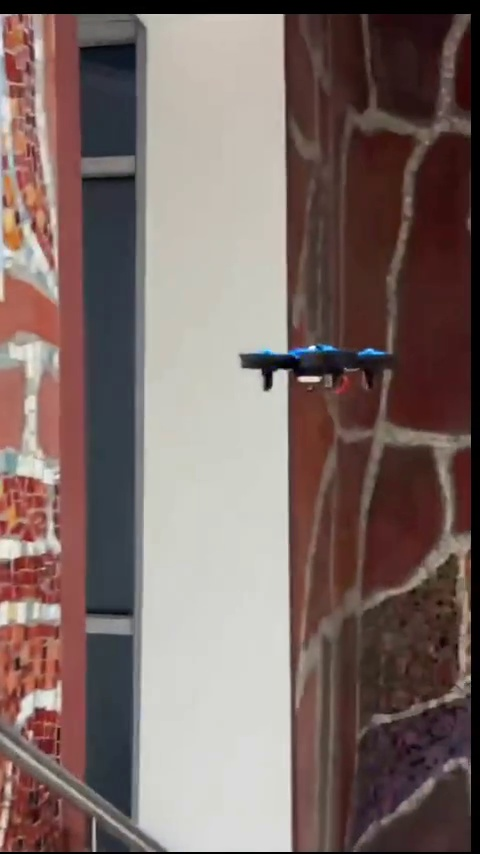drone: (242, 345, 394, 397)
